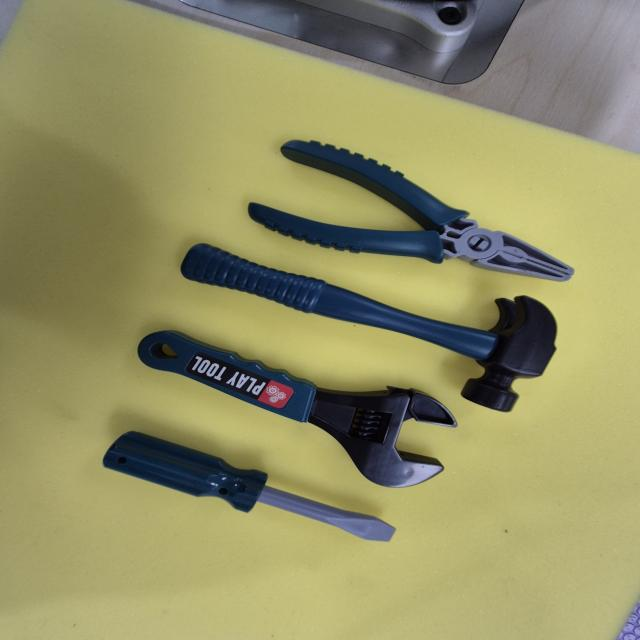hammer: (150, 235, 576, 432)
pliers: (223, 123, 602, 294)
screwdriver: (93, 422, 419, 568)
wrench: (112, 317, 469, 509)
